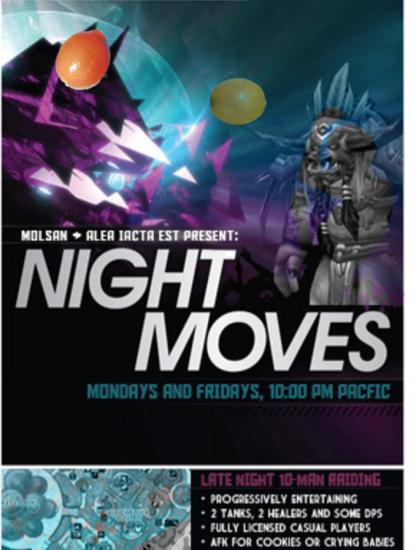Grape: (210, 73, 267, 130)
Tangelo: (53, 27, 119, 93)
